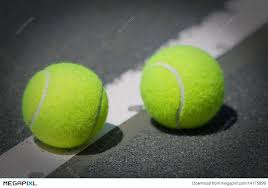tennis_ball: (19, 61, 110, 151), (138, 43, 226, 130)
